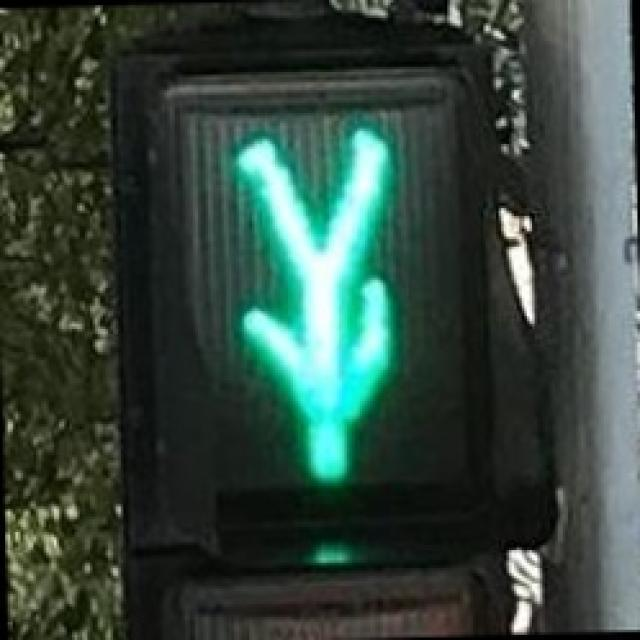green_light: (178, 100, 452, 535)
